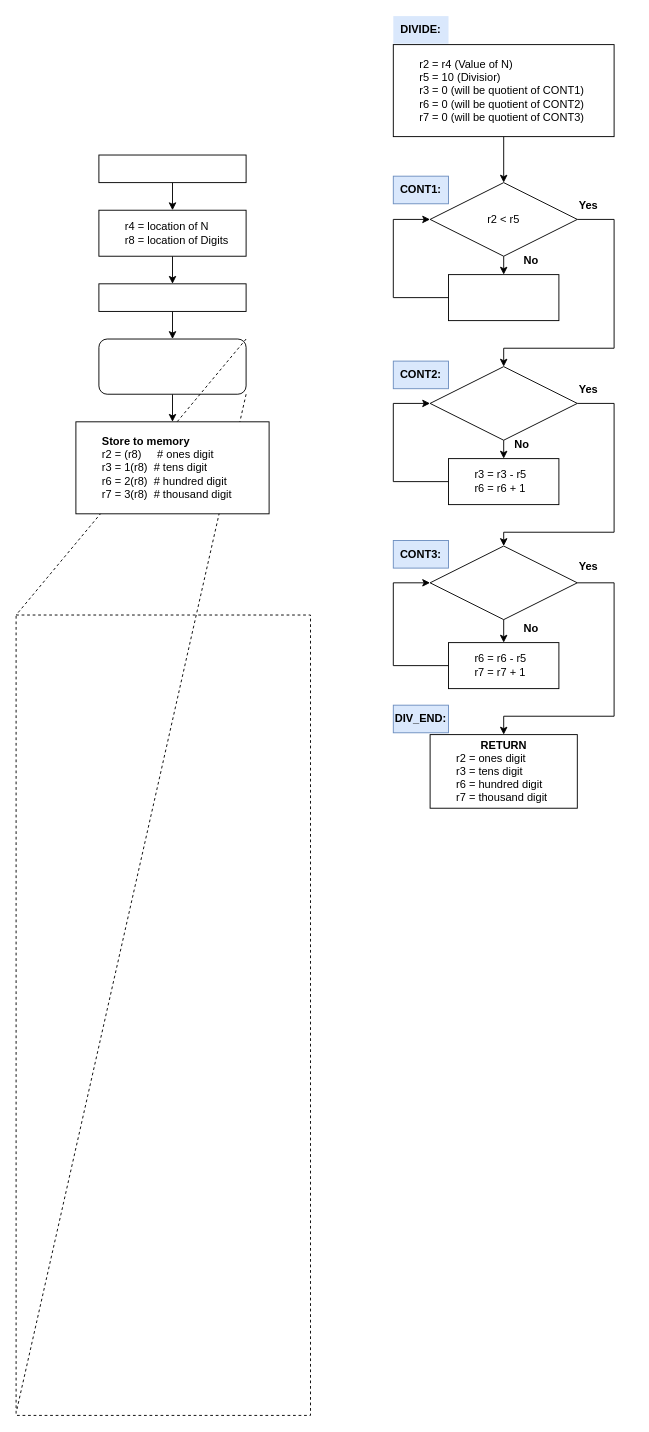
This 649x1432 diagram has some shape labels left out. Each missing label, with the box of its shape:
_start:: (98, 154, 246, 183)
Call DIVIDE: (98, 338, 246, 394)
r2 = r2 - r5 r3 = r3 + 1: (448, 274, 559, 321)
r3 < r5: (429, 366, 577, 440)
r4 = Vaule of N: (98, 283, 246, 311)
r6 < r5: (429, 545, 577, 620)
